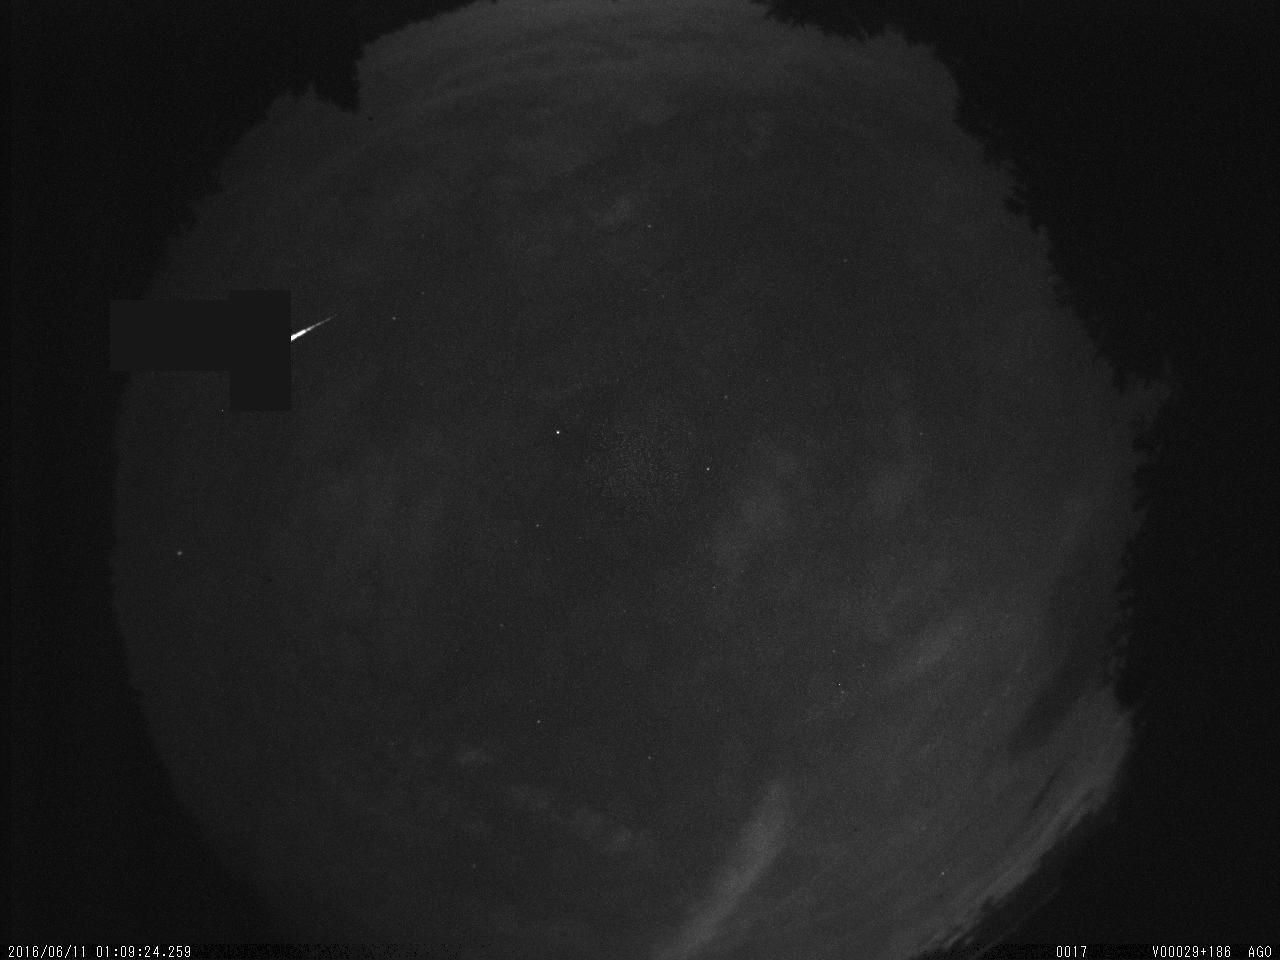meteor: (254, 316, 368, 353)
